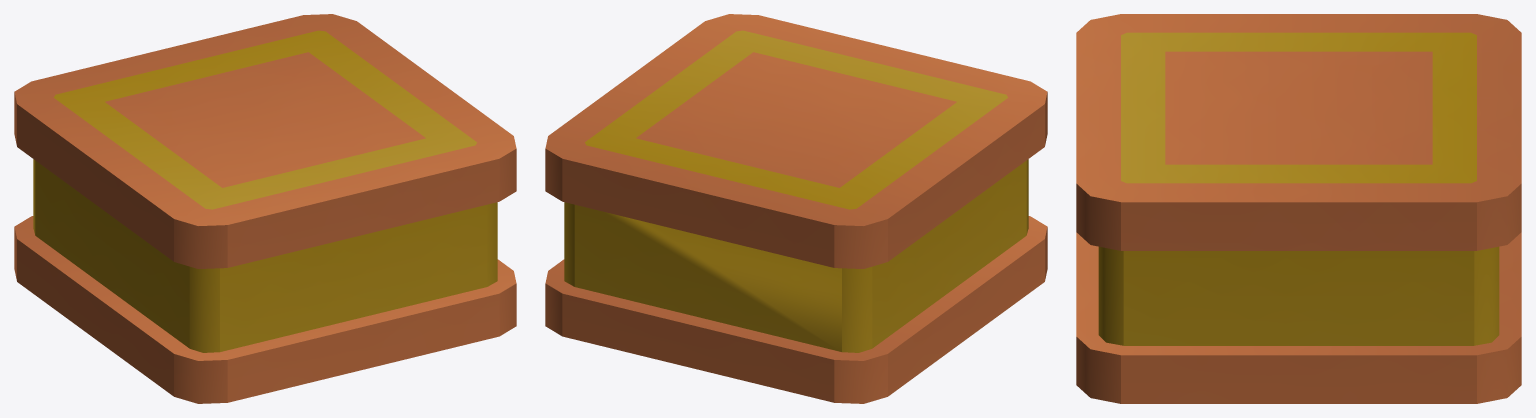
The model's file is blockMoving.glb.
The picture shows the model from 3 angles, left to right: view 1: azimuth 30°, elevation 25°; view 2: azimuth 150°, elevation 25°; view 3: azimuth 270°, elevation 25°; orthographic projection. The views are drawn at different scales.
Visible parts, largest first — view 1: blockMoving; view 2: blockMoving; view 3: blockMoving.
Boxes of the visible parts, <box> form: blockMoving: <box>14,14,516,403</box>; blockMoving: <box>545,14,1047,403</box>; blockMoving: <box>1076,14,1521,403</box>.
Bounding box in the file's own units: 1 × 0.5 × 1.
1 material, 1 textured.
